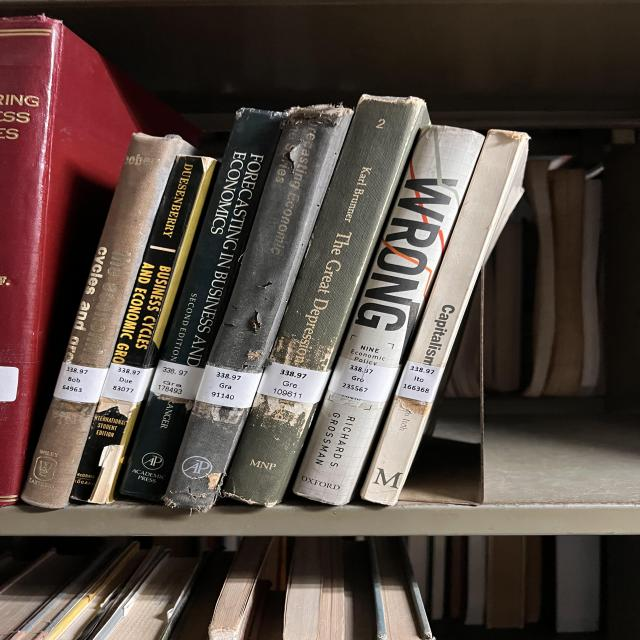Book: (223, 95, 430, 506), (163, 105, 352, 511), (293, 126, 483, 505), (20, 134, 193, 509), (120, 109, 285, 501), (360, 130, 528, 505), (72, 155, 217, 504)
Label: (328, 358, 398, 402), (257, 362, 330, 404), (195, 365, 262, 409), (53, 362, 108, 404), (102, 362, 155, 402), (150, 360, 203, 400), (397, 361, 445, 402)
